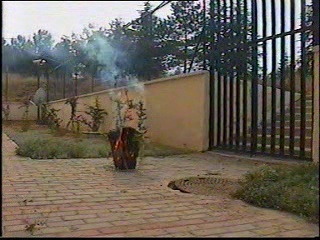smoke: (83, 31, 143, 101)
